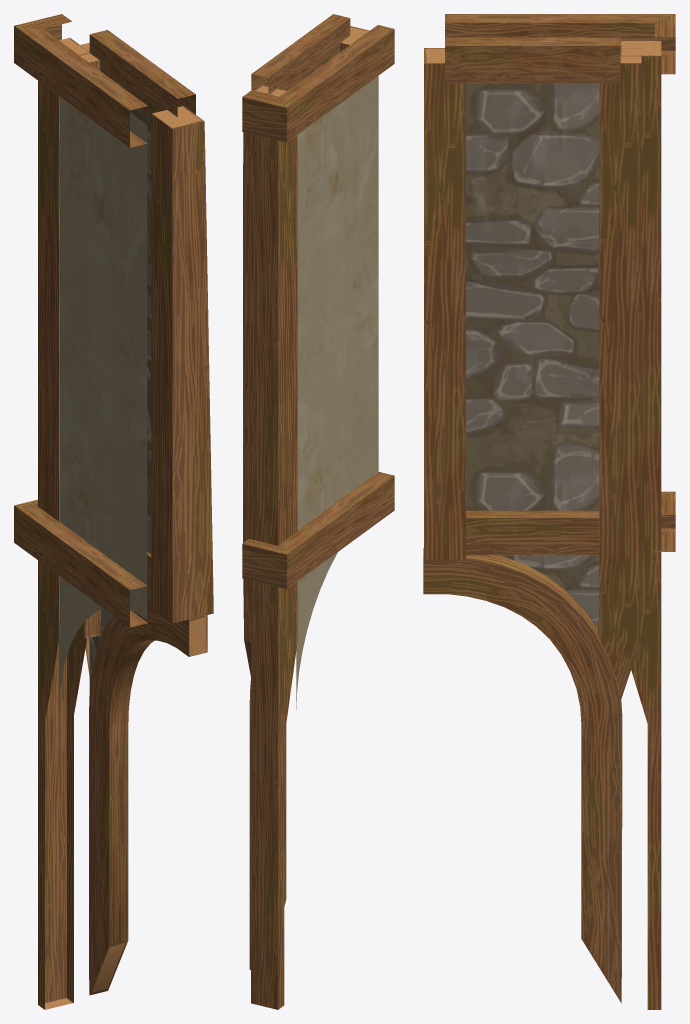
File: Overhang_Side_UnevenBrick_Short_R.gltf
3 views of the same model, side by side, from view 1: azimuth 30°, elevation 25°; view 2: azimuth 150°, elevation 25°; view 3: azimuth 270°, elevation 25° (orthographic). The views are drawn at different scales.
Parts seen in each view (by area): view 1: Overhang_Side_UnevenBrick_Short_R; view 2: Overhang_Side_UnevenBrick_Short_R; view 3: Overhang_Side_UnevenBrick_Short_R.
Boxes of the visible parts, bbox=[...] form: Overhang_Side_UnevenBrick_Short_R: bbox=[14, 14, 213, 1009]; Overhang_Side_UnevenBrick_Short_R: bbox=[242, 14, 394, 1009]; Overhang_Side_UnevenBrick_Short_R: bbox=[423, 14, 675, 1009].
Bounding box in the file's own units: 0.4793 × 6.12 × 1.44.
3 materials, 3 textured.
